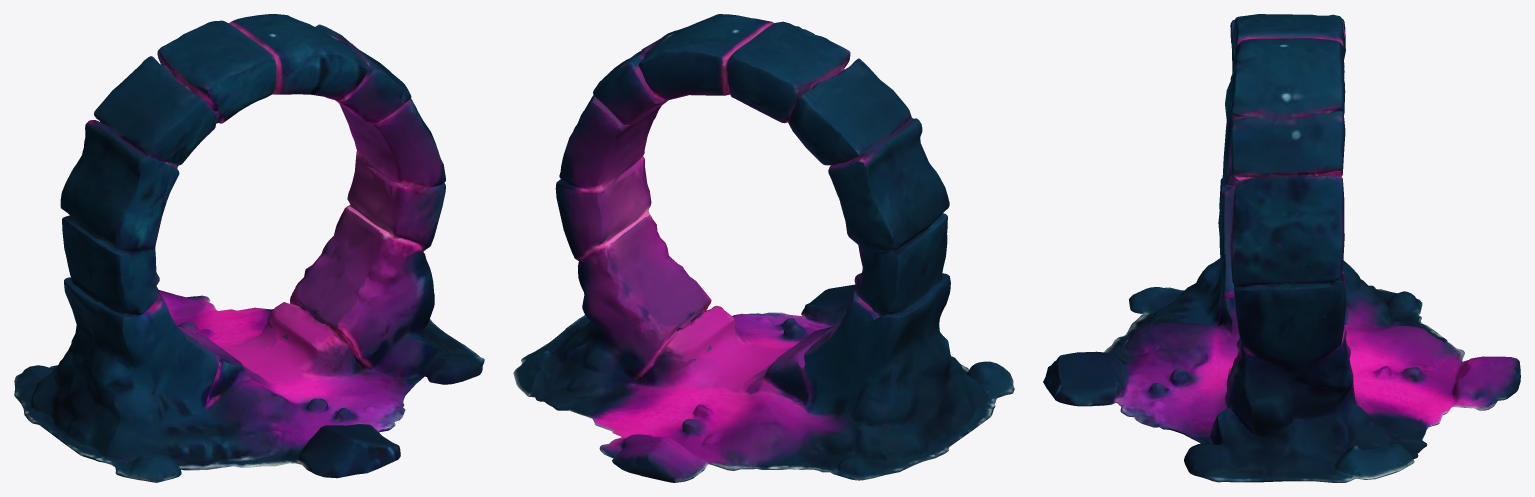
The model's file is broken-ring-generated-2026-05-17T20-56-18-499Z.low.glb.
3 renders of one model, left to right at view 1: azimuth 30°, elevation 25°; view 2: azimuth 150°, elevation 25°; view 3: azimuth 270°, elevation 25°, orthographic. The views are drawn at different scales.
Parts seen in each view (by area): view 1: temp_mesh.ply; view 2: temp_mesh.ply; view 3: temp_mesh.ply.
Boxes of the visible parts, left/top/right/bottom form: temp_mesh.ply: left=14, top=14, right=484, bottom=482; temp_mesh.ply: left=513, top=14, right=1014, bottom=482; temp_mesh.ply: left=1043, top=14, right=1520, bottom=482.
Size of the model in its own units: 1.94 by 1.59 by 1.96.
Materials: 1 (1 with a texture image).
